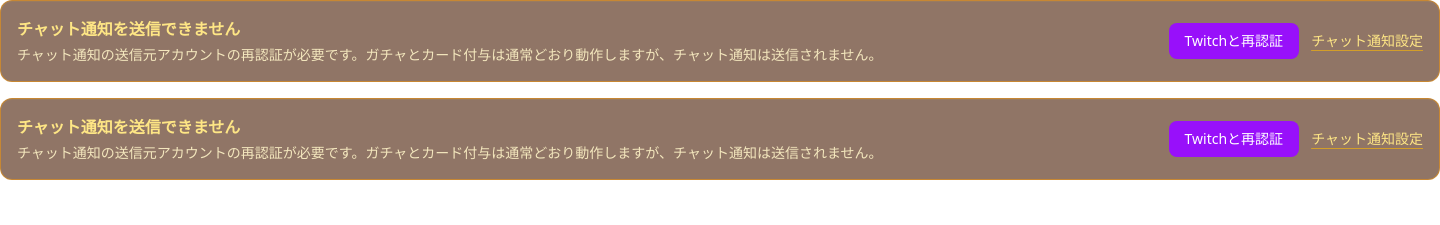
it: ChatDeliveryWarning › 同じProvider配下の別CTAを連続操作してもreauth requestは1本だけ発行する
Click the 1st button "Twitchと再認証". click: (1234, 41)
box: [1169,23,1299,59]
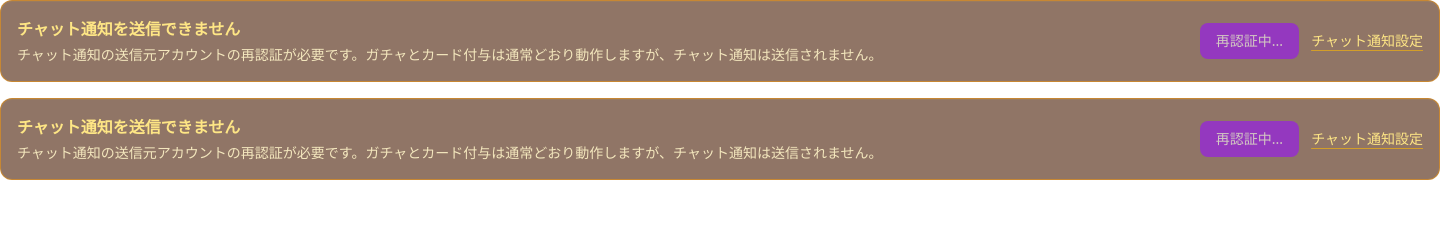
Now the button named "Twitchと再認証" is disabled
Click the button named "Twitchと再認証". click: (1250, 139)
box: [1200,121,1299,157]
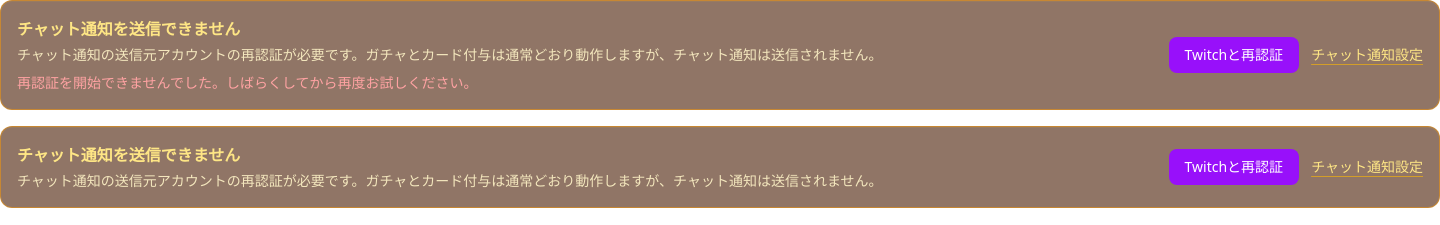
Now the 1st button "Twitchと再認証" is enabled, box [1169,37,1299,73]
